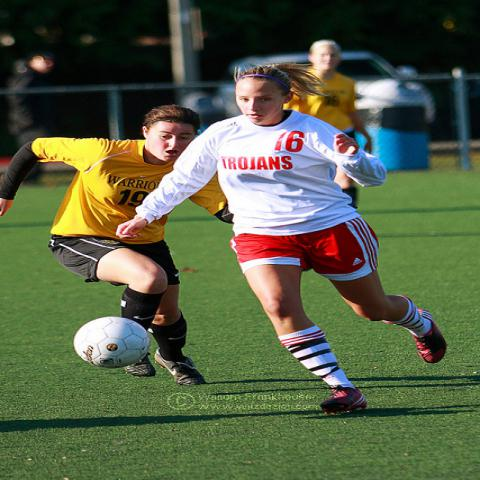car: (344, 54, 442, 118)
